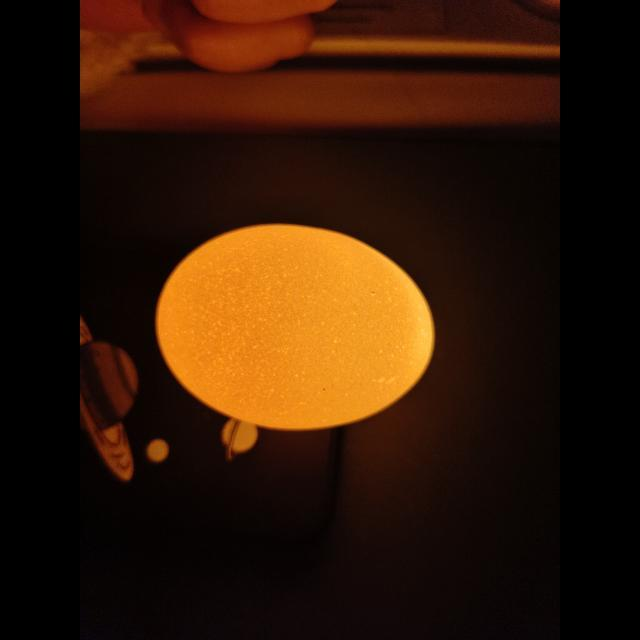AA - Premium: (156, 224, 434, 430)
